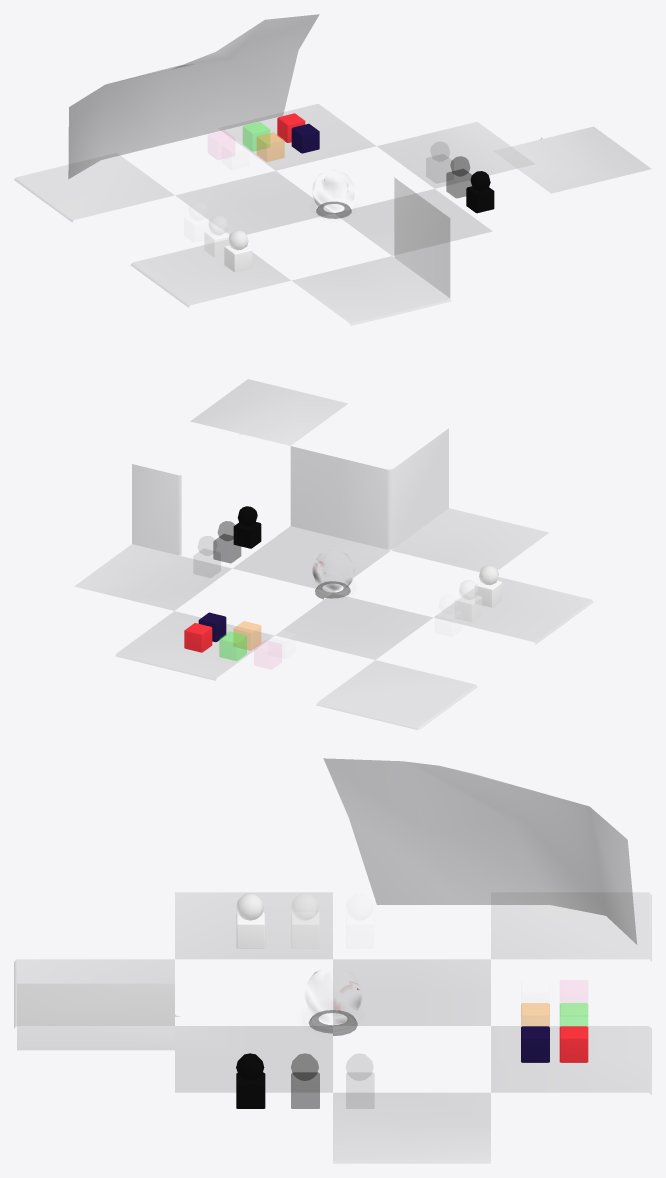
The picture shows the model from 3 angles, top to bottom: view 1: azimuth 30°, elevation 25°; view 2: azimuth 150°, elevation 25°; view 3: azimuth 270°, elevation 25°; orthographic projection. The views are drawn at different scales.
Parts seen in each view (by area): view 1: Cylinder.001; view 2: Cylinder.001; view 3: Cylinder.001.
Part boxes in pixels (x1=…): Cylinder.001: x1=14, y1=14, x2=650, y2=325; Cylinder.001: x1=74, y1=379, x2=593, y2=729; Cylinder.001: x1=14, y1=758, x2=651, y2=1163.
Bounding box in the file's own units: 22.14 × 7.15 × 22.14.
